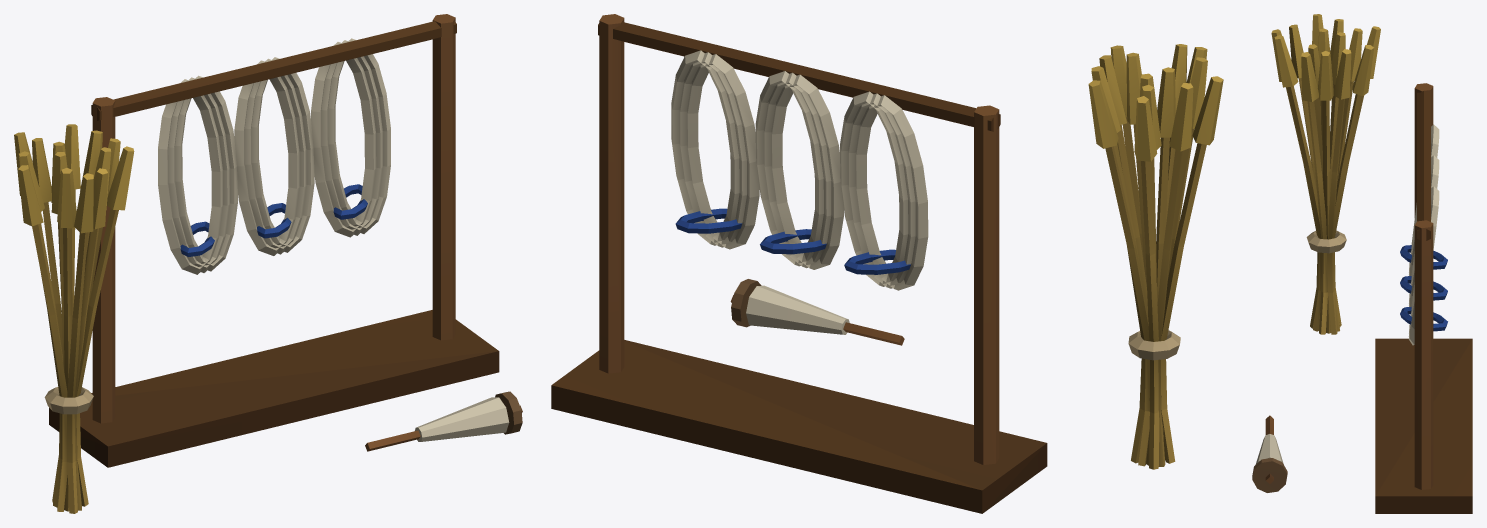
3 renders of one model, left to right at view 1: azimuth 30°, elevation 25°; view 2: azimuth 150°, elevation 25°; view 3: azimuth 270°, elevation 25°, orthographic. The views are drawn at different scales.
Parts seen in each view (by area): view 1: base; view 2: base; view 3: base.
Boxes of the visible parts, <box> form: base: <box>14,14,522,513</box>; base: <box>551,14,1223,513</box>; base: <box>1252,14,1472,513</box>.
Bounding box in the file's own units: 0.6056 × 0.401 × 0.2717.
